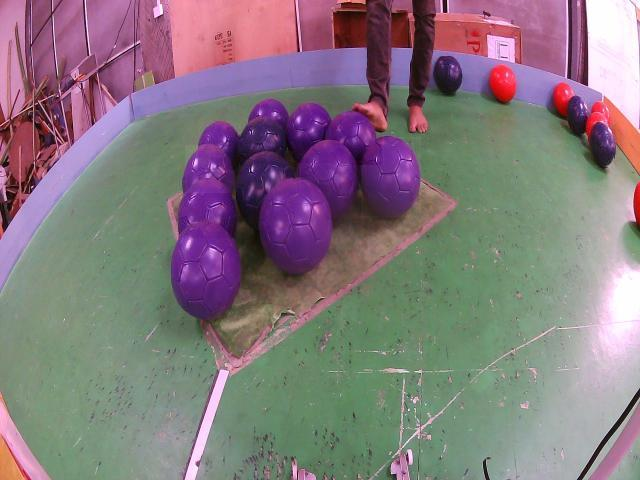jambhalya: (172, 220, 241, 320), (259, 179, 331, 273), (297, 140, 358, 220), (362, 137, 421, 218), (178, 179, 237, 238), (284, 104, 332, 163), (333, 115, 382, 165), (185, 145, 236, 193), (199, 122, 242, 170), (250, 99, 290, 129)
kaalyya: (237, 151, 293, 230), (239, 117, 286, 164), (589, 121, 614, 167), (434, 56, 462, 94), (567, 95, 589, 135)
